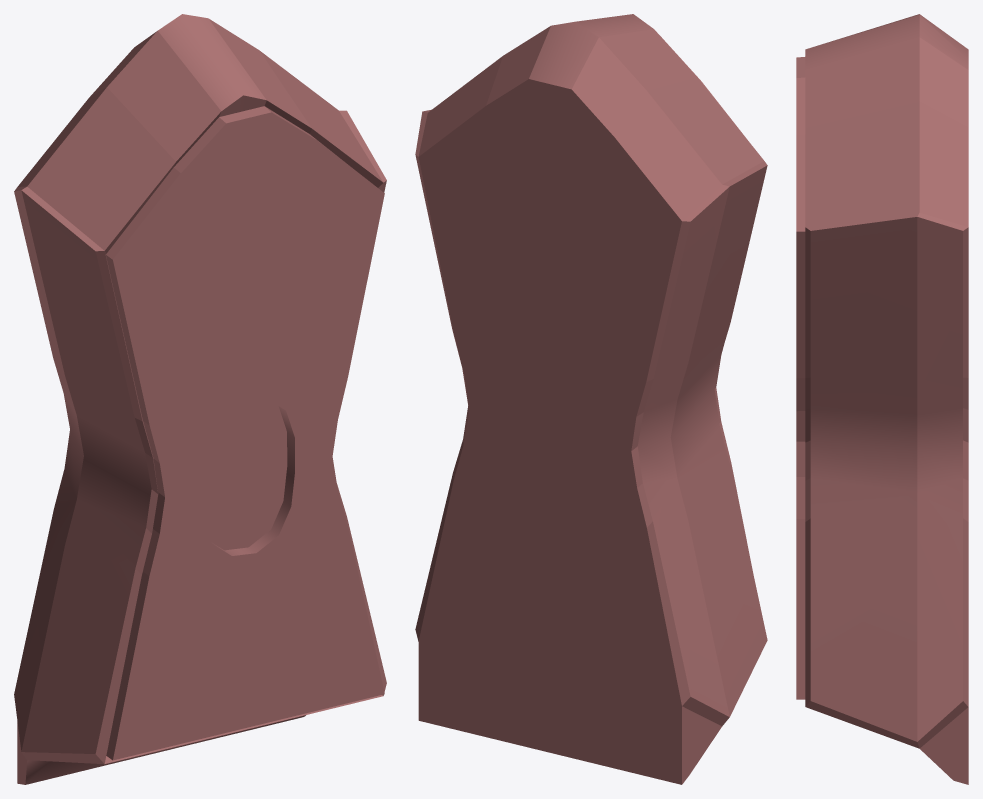
Rendered from Samitizer3.fbx.
3 renders of one model, left to right at view 1: azimuth 30°, elevation 25°; view 2: azimuth 150°, elevation 25°; view 3: azimuth 270°, elevation 25°, orthographic. The views are drawn at different scales.
Parts seen in each view (by area): view 1: ColbyNormal; view 2: ColbyNormal; view 3: ColbyNormal.
Part boxes in pixels (x1,y1,x2,y2): ColbyNormal: [14, 14, 386, 784]; ColbyNormal: [415, 14, 767, 784]; ColbyNormal: [796, 14, 968, 784].
Bounding box in the file's own units: 15.96 × 35.36 × 7.81.
